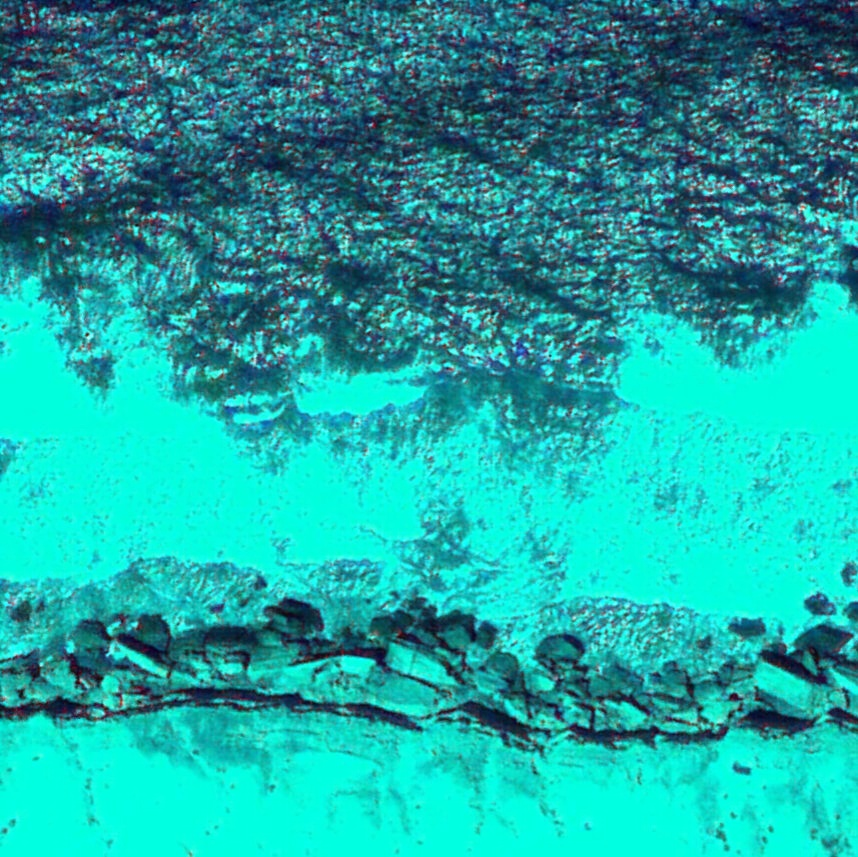rip_current: (345, 265, 624, 601)
